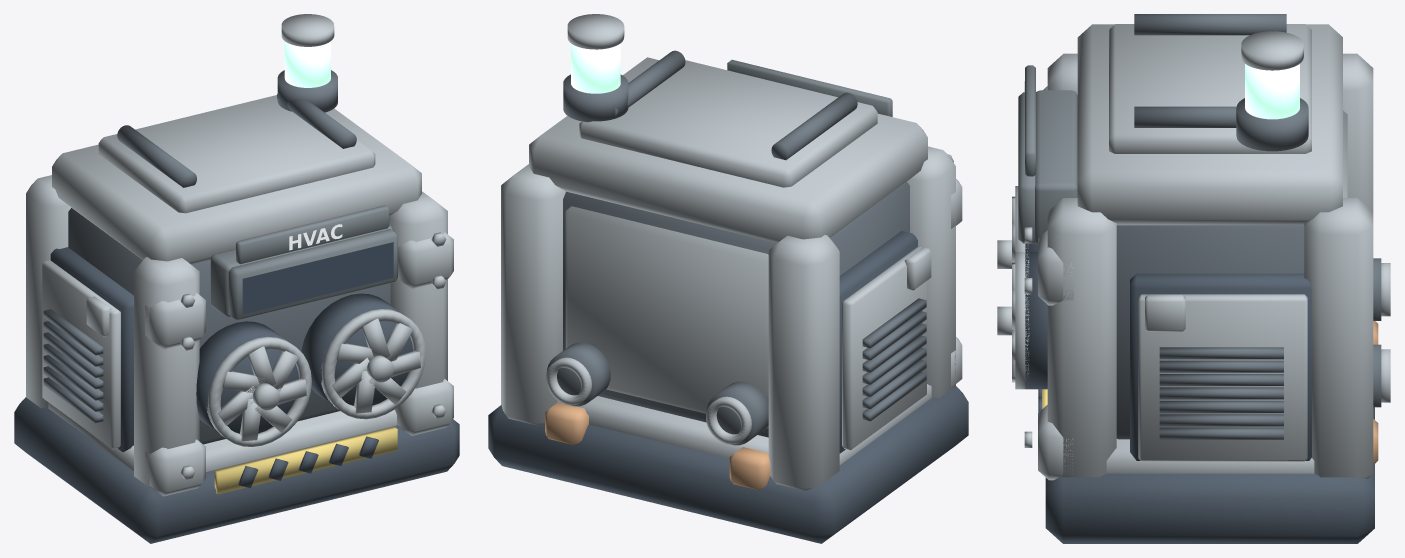
Rendered from hvac_ultra.glb.
3 views of the same model, side by side, from view 1: azimuth 30°, elevation 25°; view 2: azimuth 150°, elevation 25°; view 3: azimuth 270°, elevation 25° (orthographic). The views are drawn at different scales.
Parts seen in each view (by area): view 1: Frame_steel_legacy_4, Base_black_legacy_0, TopCap_steel_legacy_10, RoofPanel_steel_legacy_11, CornerGuard_steel_legacy_5, FanBlade_steel_legacy_15, Fan_black_legacy_13, Housing_dark_legacy_2, FanGuard_steel_legacy_14, ServiceDoor_steel_legacy_7, LiveViewSurface_glass, Skirt_steel_legacy_1 (+14 smaller); view 2: Frame_steel_legacy_4, Armor_steel_legacy_3, Base_black_legacy_0, TopCap_steel_legacy_10, RoofPanel_steel_legacy_11, Housing_dark_legacy_2, ServiceDoor_steel_legacy_7, SideVents_dark_legacy_8, Skirt_steel_legacy_1, RearPort_dark_legacy_26, LiftRail_dark_legacy_12, RearPort_copper_legacy_29 (+8 smaller); view 3: Frame_steel_legacy_4, TopCap_steel_legacy_10, Base_black_legacy_0, ServiceDoor_steel_legacy_7, RoofPanel_steel_legacy_11, Housing_dark_legacy_2, SideVents_dark_legacy_8, SidePanel_black_legacy_6, LiftRail_dark_legacy_12, ScreenMount_frame, CornerGuard_steel_legacy_5, Skirt_steel_legacy_1 (+12 smaller).
Part boxes in pixels (left/top/right/bottom): Frame_steel_legacy_4: left=26, top=175, right=447, bottom=491; Base_black_legacy_0: left=14, top=397, right=459, bottom=543; TopCap_steel_legacy_10: left=52, top=108, right=421, bottom=264; RoofPanel_steel_legacy_11: left=98, top=95, right=375, bottom=213; CornerGuard_steel_legacy_5: left=145, top=232, right=453, bottom=496; FanBlade_steel_legacy_15: left=218, top=318, right=420, bottom=441; Fan_black_legacy_13: left=196, top=293, right=412, bottom=433; Housing_dark_legacy_2: left=68, top=208, right=390, bottom=444; FanGuard_steel_legacy_14: left=206, top=308, right=425, bottom=446; ServiceDoor_steel_legacy_7: left=42, top=260, right=120, bottom=449; LiveViewSurface_glass: left=242, top=242, right=393, bottom=314; Skirt_steel_legacy_1: left=48, top=402, right=396, bottom=471; Frame_steel_legacy_4: left=501, top=146, right=955, bottom=490; Armor_steel_legacy_3: left=565, top=206, right=768, bottom=428; Base_black_legacy_0: left=488, top=386, right=968, bottom=543; TopCap_steel_legacy_10: left=529, top=57, right=927, bottom=242; RoofPanel_steel_legacy_11: left=579, top=60, right=877, bottom=187; Housing_dark_legacy_2: left=563, top=182, right=909, bottom=437; ServiceDoor_steel_legacy_7: left=842, top=246, right=926, bottom=450; SideVents_dark_legacy_8: left=862, top=298, right=926, bottom=421; Skirt_steel_legacy_1: left=557, top=384, right=931, bottom=464; RearPort_dark_legacy_26: left=546, top=342, right=768, bottom=445; LiftRail_dark_legacy_12: left=615, top=50, right=857, bottom=160; RearPort_copper_legacy_29: left=545, top=402, right=770, bottom=490; Frame_steel_legacy_4: left=1047, top=53, right=1373, bottom=478; TopCap_steel_legacy_10: left=1077, top=24, right=1342, bottom=225; Base_black_legacy_0: left=1045, top=407, right=1374, bottom=543; ServiceDoor_steel_legacy_7: left=1138, top=294, right=1307, bottom=461; RoofPanel_steel_legacy_11: left=1109, top=24, right=1311, bottom=153; Housing_dark_legacy_2: left=1116, top=225, right=1304, bottom=439; SideVents_dark_legacy_8: left=1159, top=347, right=1283, bottom=439; SidePanel_black_legacy_6: left=1130, top=273, right=1311, bottom=460; LiftRail_dark_legacy_12: left=1134, top=14, right=1286, bottom=127; ScreenMount_frame: left=1035, top=90, right=1077, bottom=244; CornerGuard_steel_legacy_5: left=1038, top=86, right=1073, bottom=480; Skirt_steel_legacy_1: left=1106, top=439, right=1314, bottom=473.
Size of the model in its own units: 1.43 by 1.65 by 1.25.
